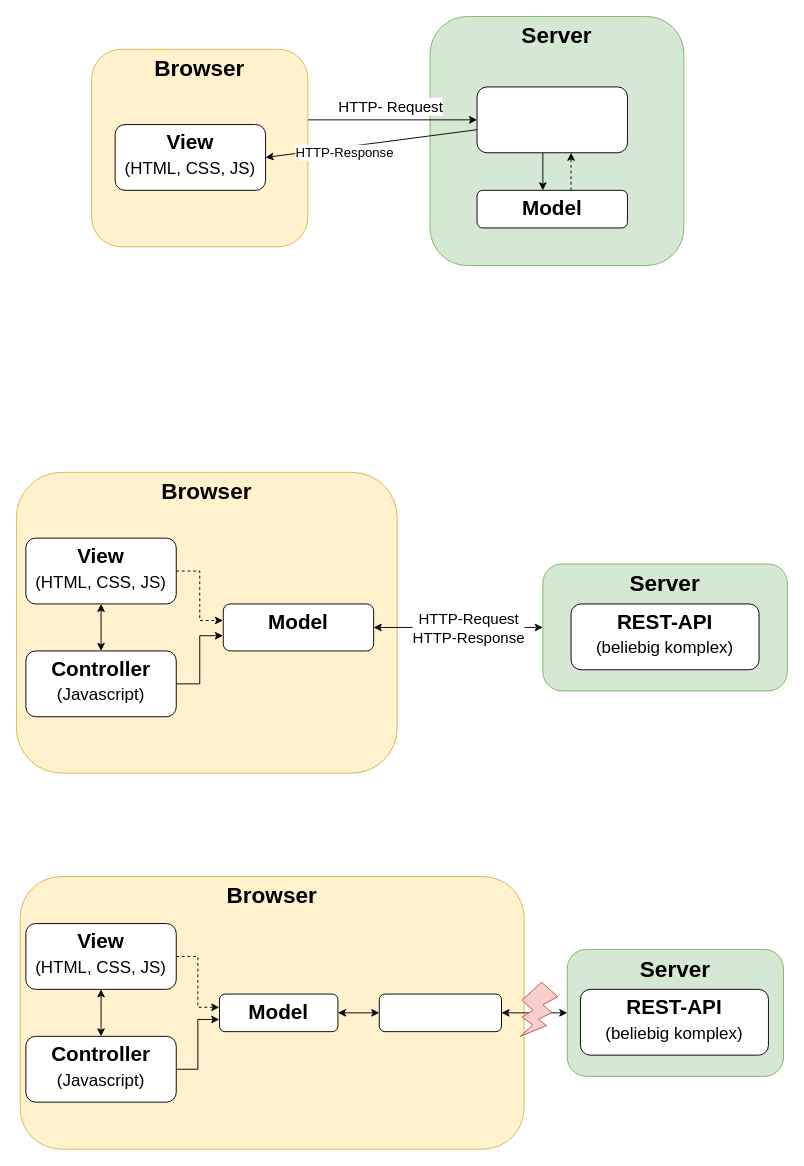
The diagram is 804 pixels wide and 1166 high, and some of its shapes have lost their labels. The box of each missing label's shape, as (x1, y1, x2, y2) in pixels:
Controller (z.B. PHP/Java): (476, 86, 627, 153)
Proxy: (378, 993, 501, 1032)
